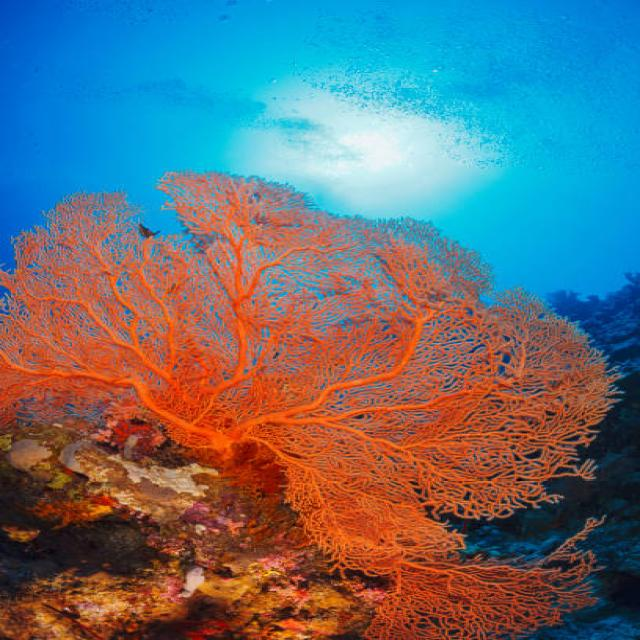Coral: (0, 169, 628, 640)
